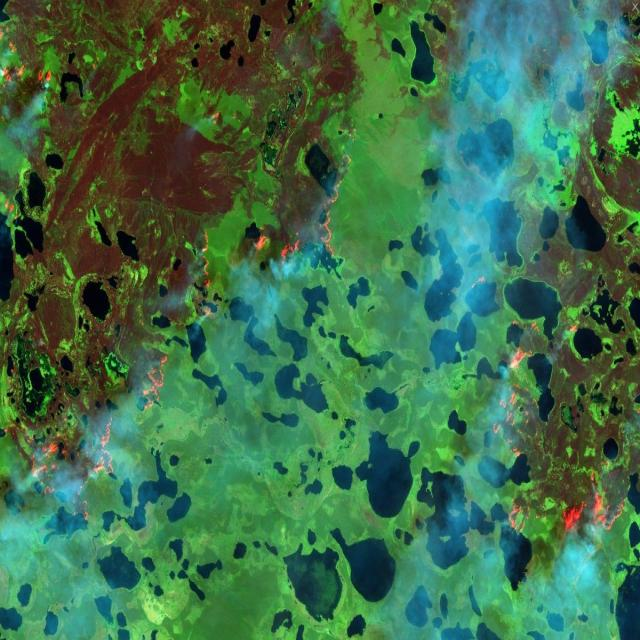fire: (248, 164, 354, 278), (501, 468, 628, 553), (10, 415, 96, 534), (488, 338, 552, 460), (186, 223, 224, 326), (129, 352, 177, 420), (90, 408, 128, 477), (504, 313, 544, 336), (562, 309, 584, 343)
